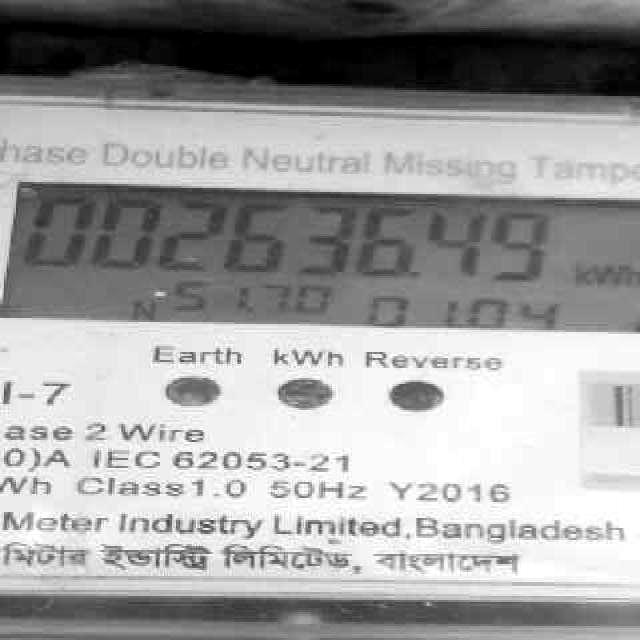LCD: (0, 170, 638, 345)
